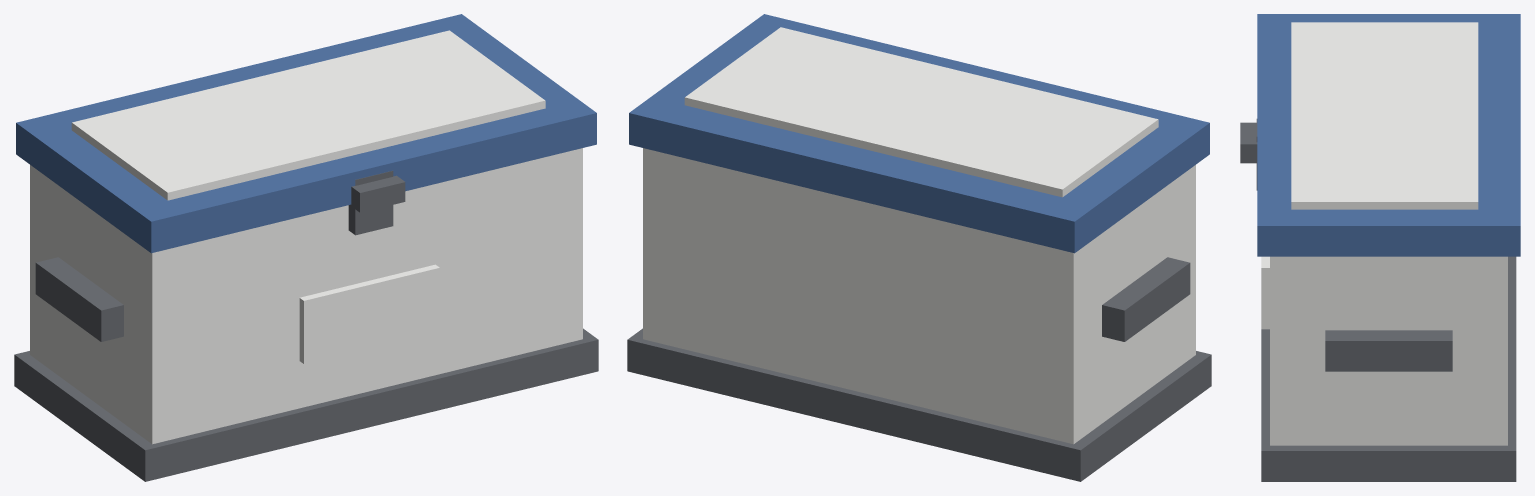
The model's file is PortDockBox.glb.
3 renders of one model, left to right at view 1: azimuth 30°, elevation 25°; view 2: azimuth 150°, elevation 25°; view 3: azimuth 270°, elevation 25°, orthographic. The views are drawn at different scales.
Visible parts, largest first — view 1: marina-and-yacht-club-dock-box, dock-lidgel, dock-lidnavy, dock-lidcharcoal; view 2: marina-and-yacht-club-dock-box, dock-lidgel, dock-lidnavy; view 3: marina-and-yacht-club-dock-box, dock-lidgel, dock-lidnavy, dock-lidcharcoal.
Part boxes in pixels (bbox=[...]): marina-and-yacht-club-dock-box: bbox=[14, 148, 598, 481]; dock-lidgel: bbox=[71, 30, 545, 200]; dock-lidnavy: bbox=[16, 14, 596, 253]; dock-lidcharcoal: bbox=[350, 175, 405, 212]; marina-and-yacht-club-dock-box: bbox=[627, 148, 1211, 481]; dock-lidgel: bbox=[684, 27, 1158, 197]; dock-lidnavy: bbox=[629, 14, 1209, 253]; marina-and-yacht-club-dock-box: bbox=[1256, 119, 1516, 481]; dock-lidgel: bbox=[1291, 22, 1478, 209]; dock-lidnavy: bbox=[1257, 14, 1520, 256]; dock-lidcharcoal: bbox=[1240, 122, 1257, 163].
Bounding box in the file's own units: 0.9 × 0.4858 × 0.4715.
